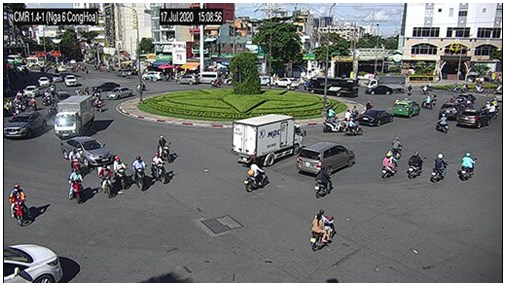xe_hoi: (3, 244, 63, 283), (297, 142, 356, 175), (60, 136, 113, 166), (4, 113, 47, 139), (457, 109, 490, 129), (360, 109, 394, 127), (394, 98, 419, 118), (107, 87, 135, 100), (440, 103, 462, 118), (177, 74, 198, 85), (23, 85, 41, 97), (142, 70, 163, 80), (64, 75, 78, 86), (38, 77, 51, 86), (52, 72, 62, 82)
xe_may: (309, 209, 336, 252), (9, 183, 31, 226), (243, 159, 268, 191), (68, 168, 86, 206), (96, 163, 115, 197), (150, 151, 169, 185), (314, 166, 332, 200), (458, 152, 477, 182), (113, 154, 128, 190), (430, 153, 448, 183), (381, 151, 399, 179), (132, 155, 146, 190), (68, 148, 85, 175), (406, 151, 422, 179), (157, 135, 171, 163), (344, 118, 364, 137), (323, 115, 344, 133), (483, 100, 500, 119), (390, 136, 402, 160), (437, 114, 449, 134), (93, 92, 103, 112), (420, 94, 433, 109), (351, 106, 360, 119), (30, 96, 36, 111)
xe_tai: (233, 114, 305, 166), (55, 95, 94, 137)
